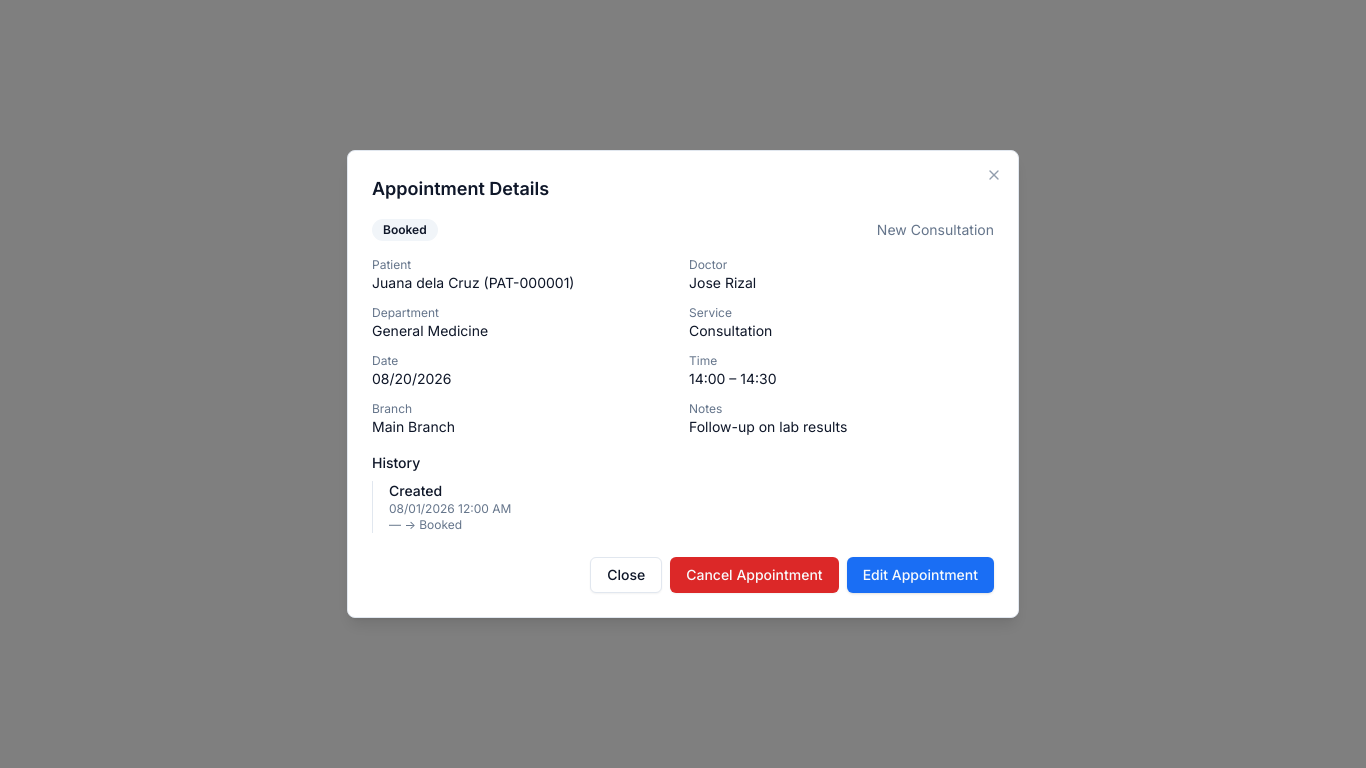
Test case: AppointmentDetailsDialog › clicking Edit Appointment opens the reschedule form (existing edit flow, reused)
The image size is (1366, 768).
Click the button "Edit Appointment": x=920, y=575 847,557 -> 994,593
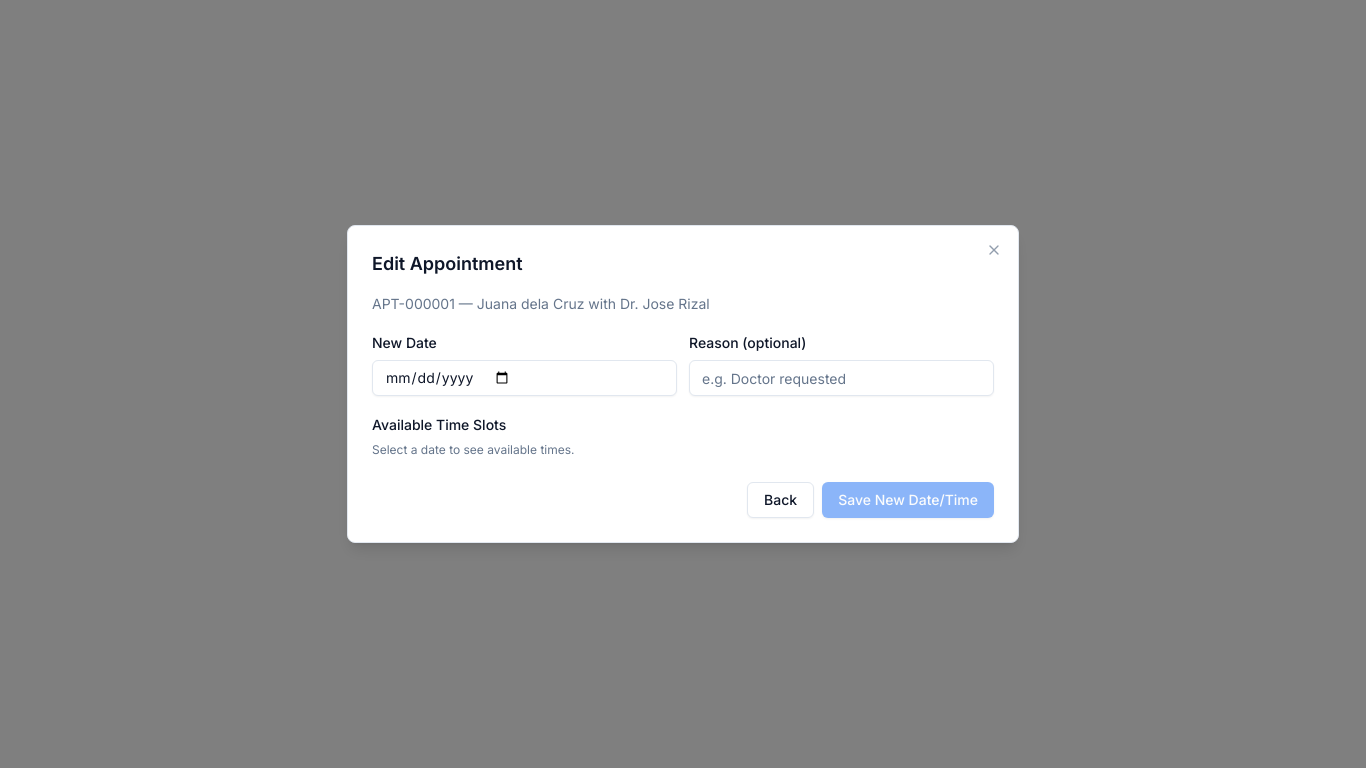
Check: the button "Back" is shown, box 747,482 -> 814,518
Check: the heading "Edit Appointment" is shown, box 372,253 -> 523,274
Check: the text "New Date" is shown, box 372,334 -> 437,351
